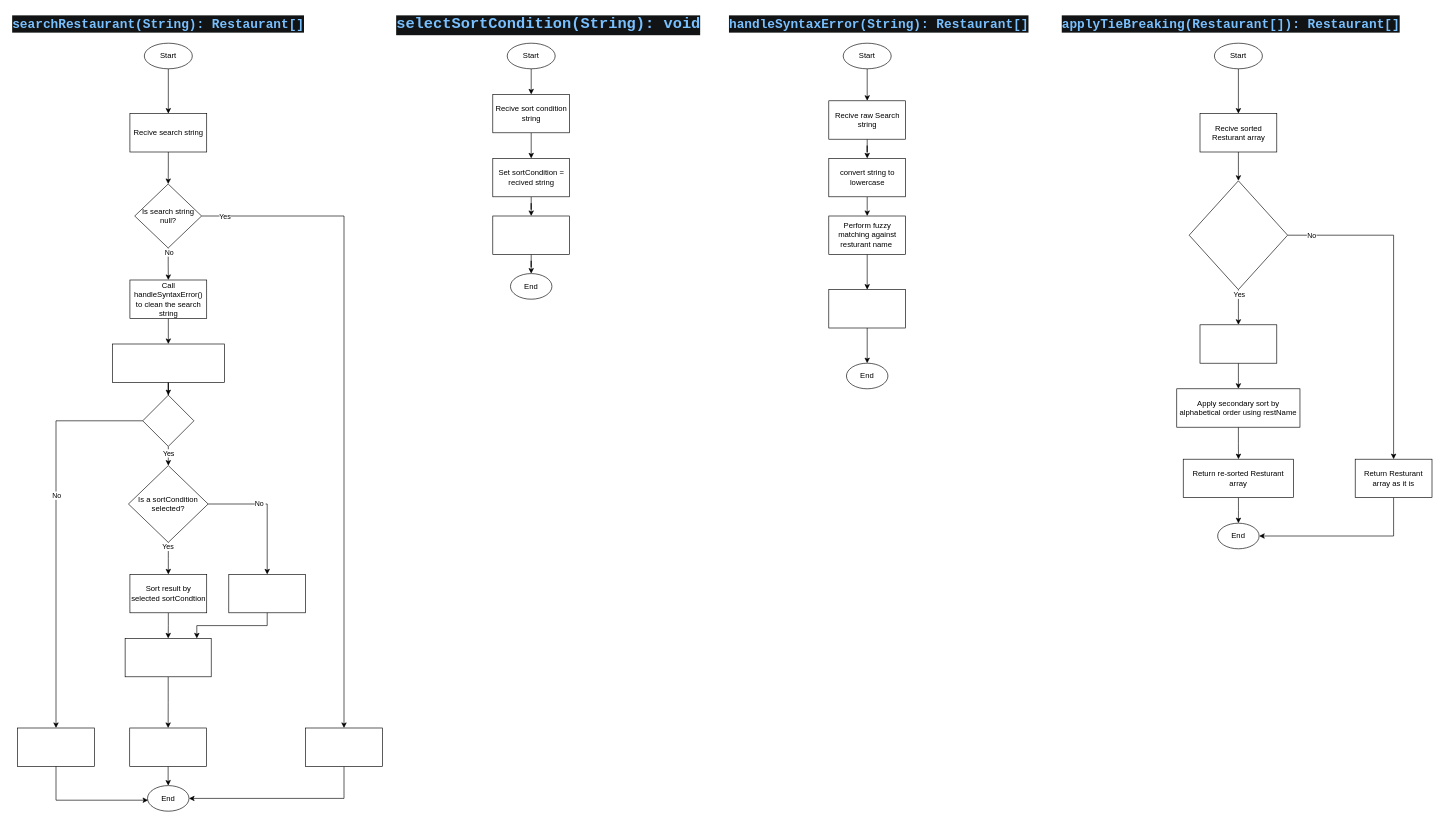
Image size: 1443x822. Some labels were removed from this diagram. Here are the shapes that lost their labels. From the top down, the box of each, then its label:
(492, 215, 570, 254): Set isDefault = false
(1189, 180, 1288, 290): Are there tied resturants with same sort value?
(828, 289, 906, 328): Return matched Resturant array
(112, 343, 224, 382): Search DB for resturants that matching the cleaned search string
(1199, 324, 1277, 363): Group tied resturants
(142, 395, 194, 446): Any results found?
(228, 574, 306, 613): Use default sort order
(124, 638, 211, 677): Call applyTieBreaking() on results
(17, 727, 94, 766): Return empty array
(129, 727, 207, 766): Return sorted Restuarant array
(305, 727, 382, 766): Return all resturants with no filter
